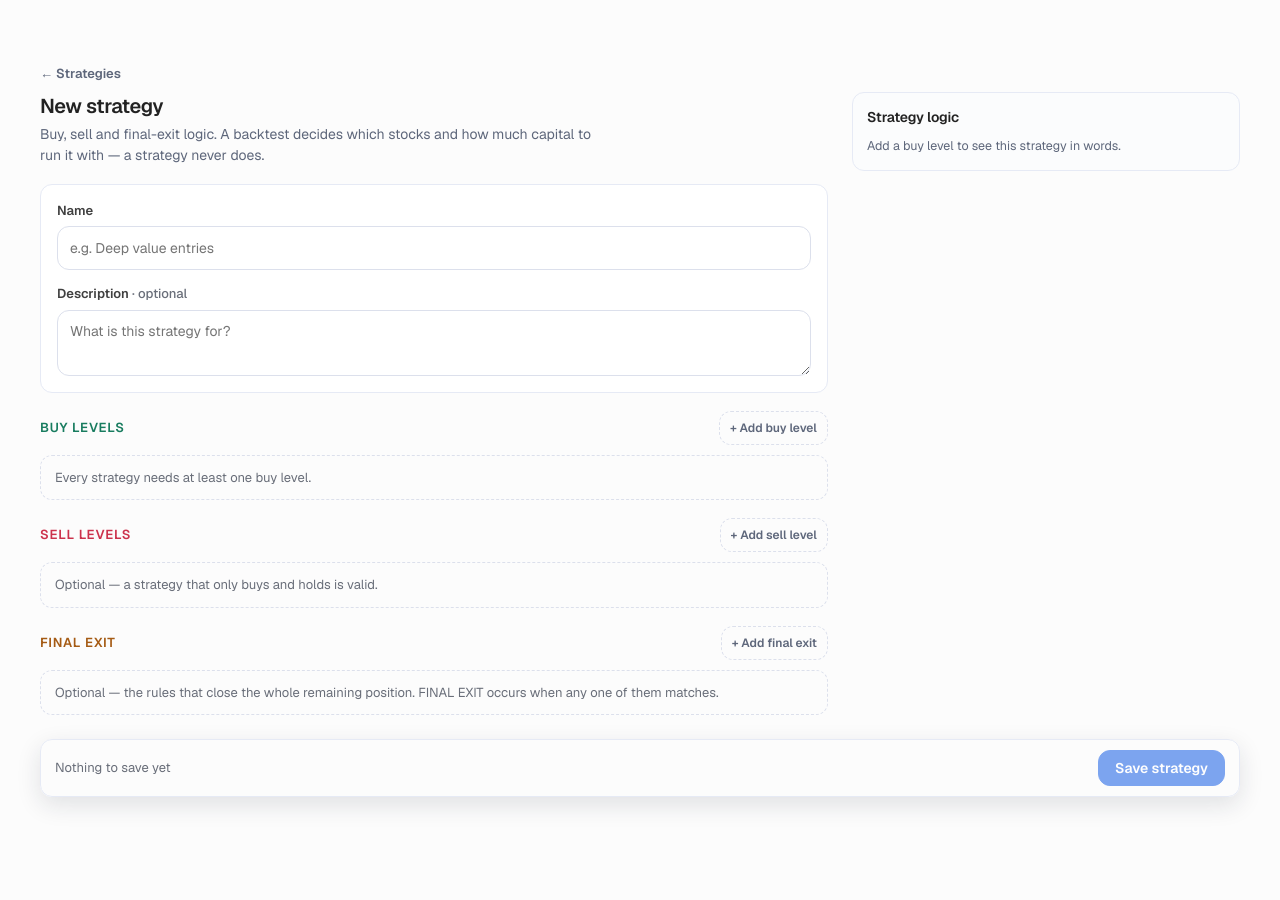
it: StrategyBuilder › swaps the value control to a bounded number for RSI
This screenshot has width=1280, height=900.
Click the button with test id "add-level-BUY" at {"x": 773, "y": 428}, box [719,410,828,444]
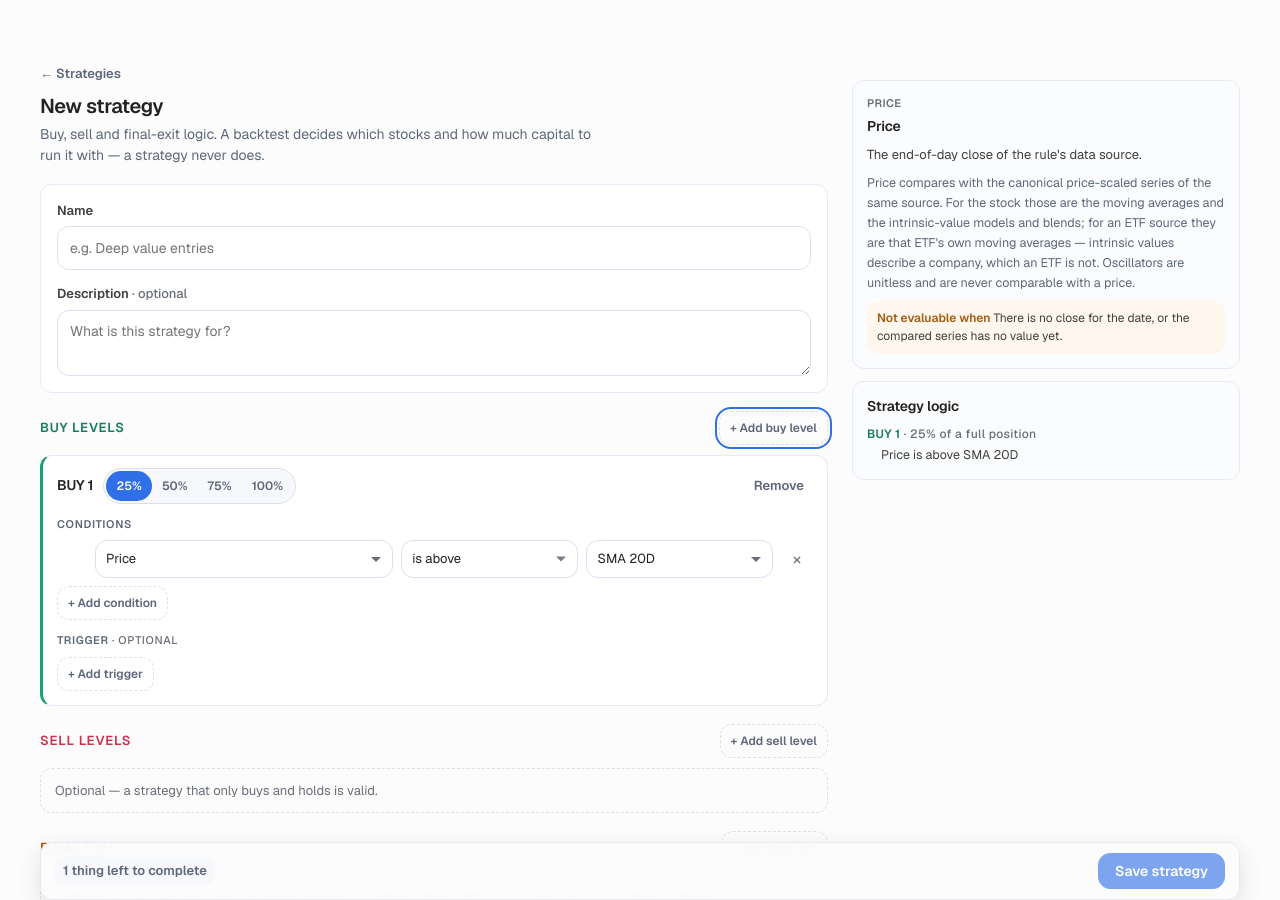
Click the button with test id "metric-picker" at {"x": 121, "y": 559}, box [95,540,393,578]
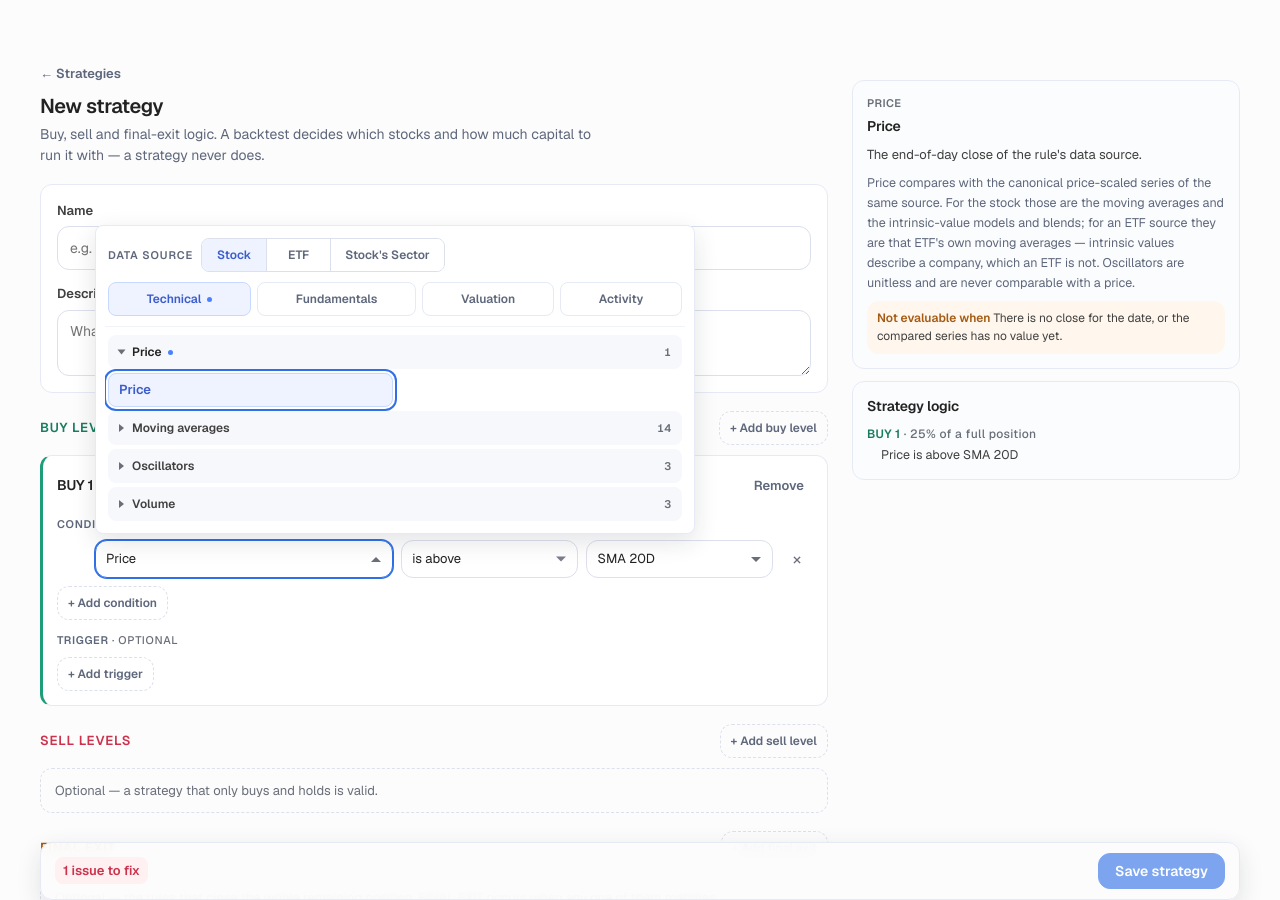
Click the button "Oscillators 3" at {"x": 163, "y": 466}, box [108,449,682,483]
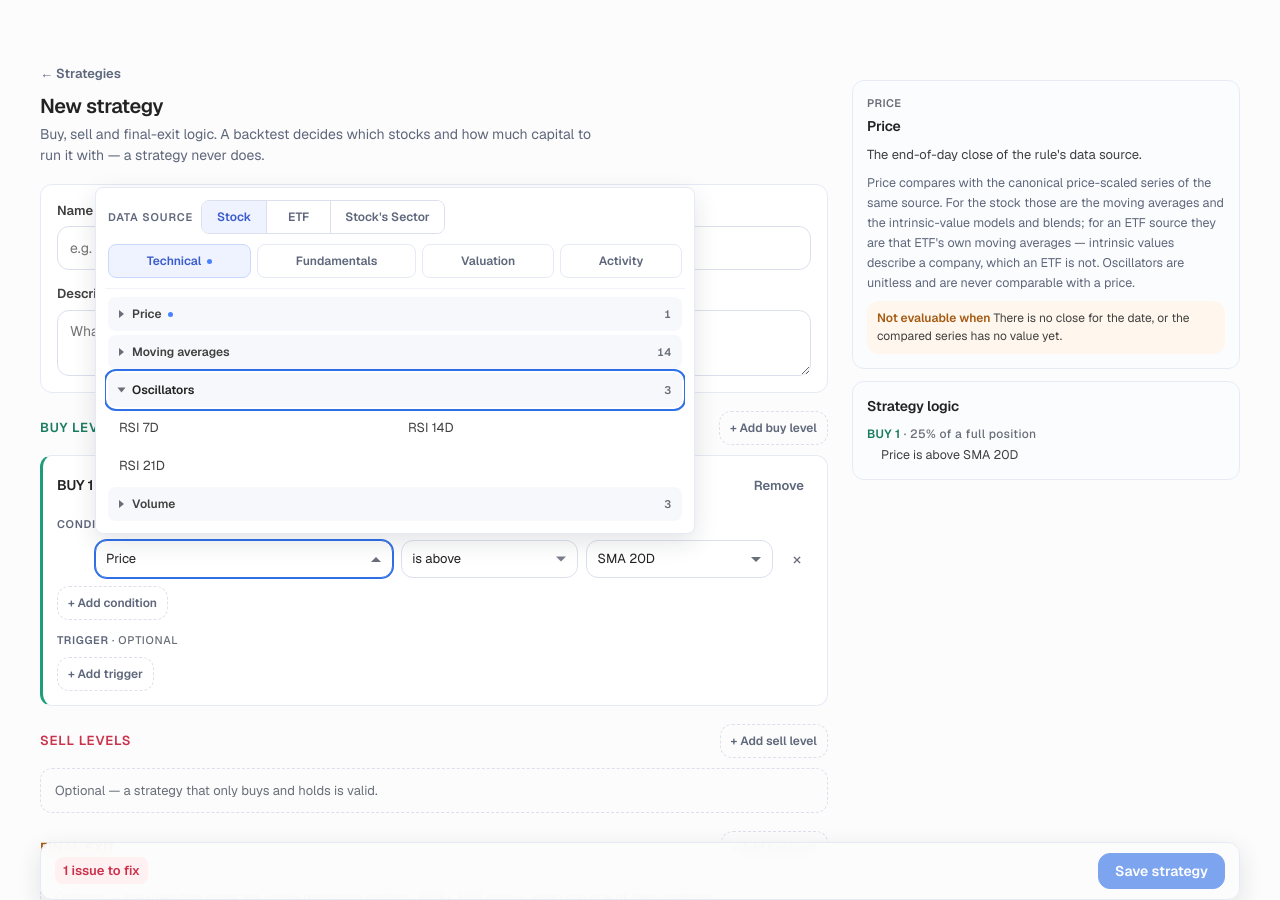
Click the button "RSI 14D" at {"x": 431, "y": 427}, box [397,411,682,445]
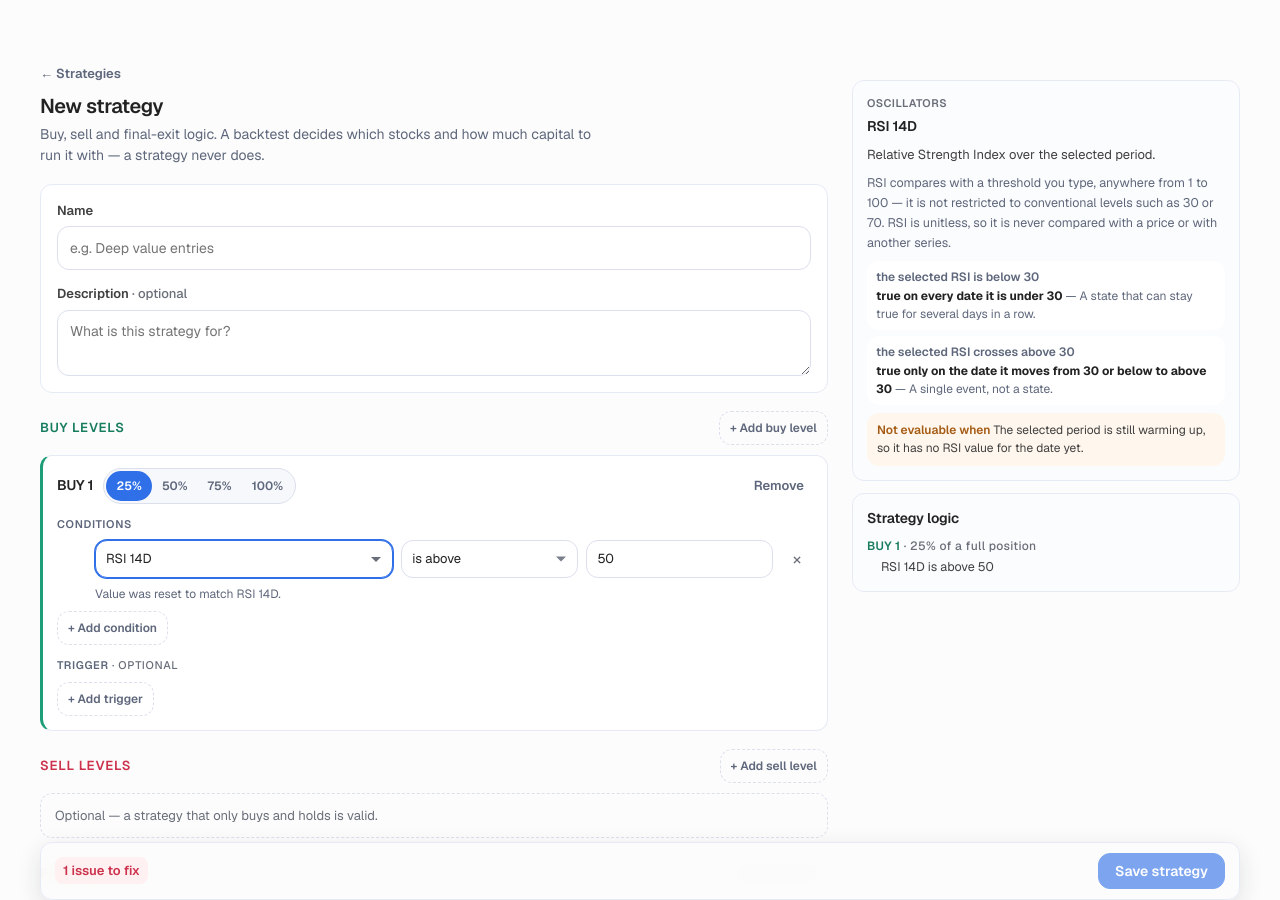
Result: the number field with test id "value-control" holds "50" at [586,540,773,578]
